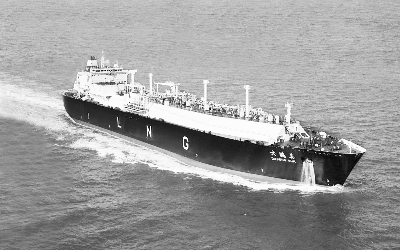Cargoship: (59, 50, 368, 190)
